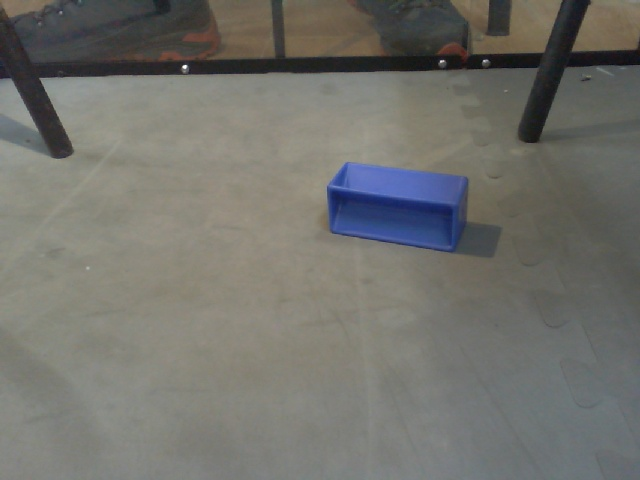BlueSample: (324, 157, 474, 255)
